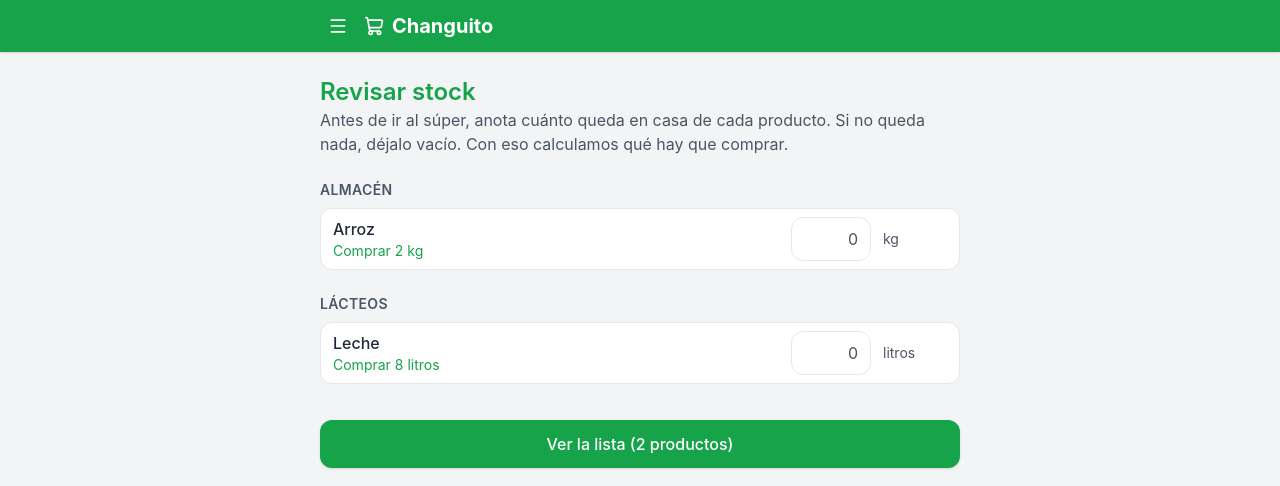
StockReviewPage › saves the review and the edited list
The width and height of the screenshot is (1280, 486).
Type "3" into the field named "¿Cuánto queda de Leche?" at (831, 353), box [791, 331, 871, 375]
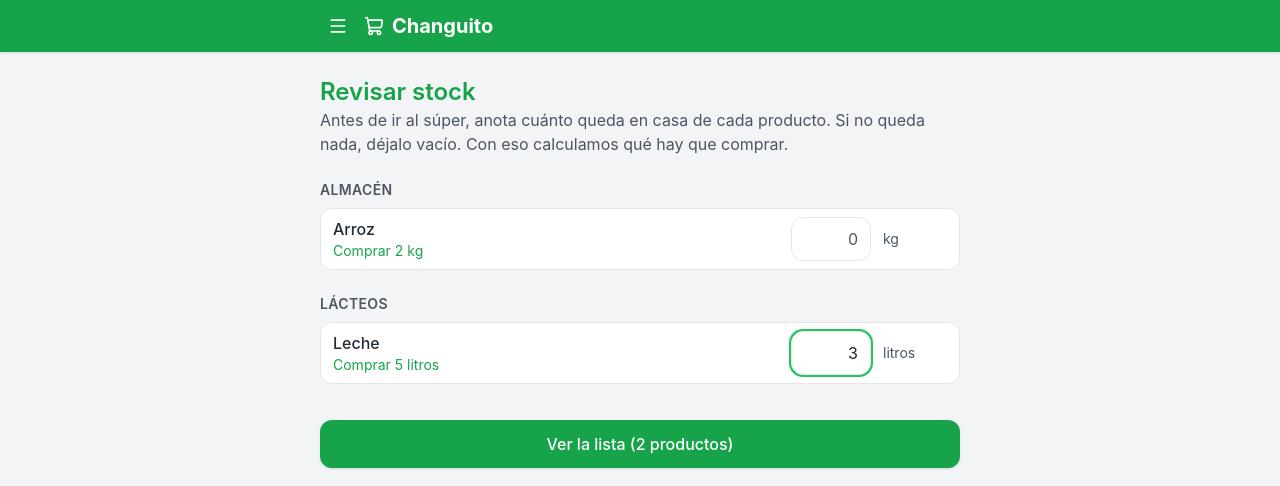
Click the button "Ver la lista (2 productos)" at (640, 444), box [320, 420, 960, 468]
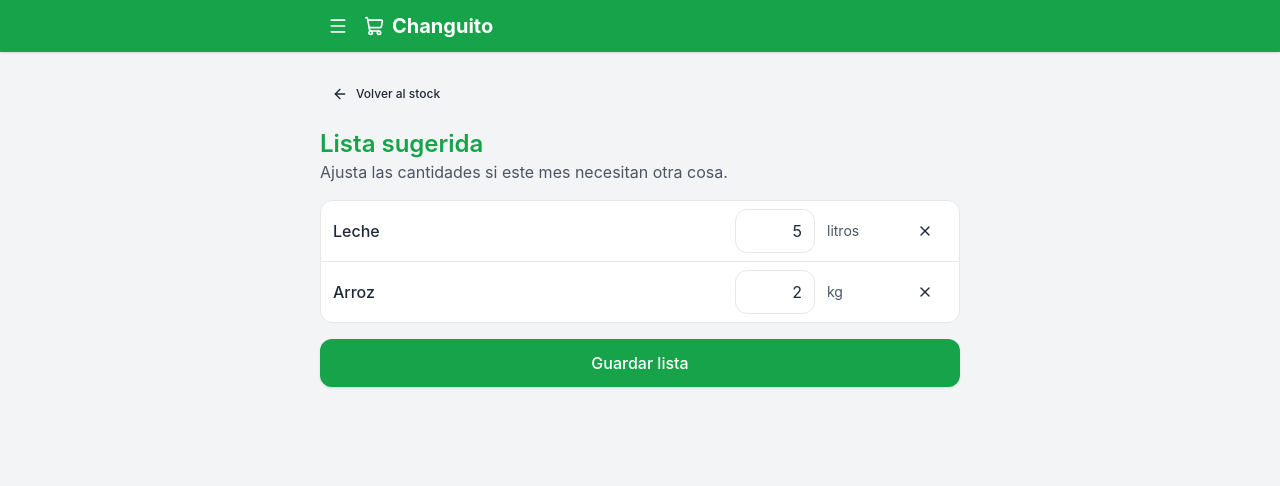
Replace the text in the field named "Cantidad de Leche" with "6" at (775, 231), box [735, 209, 815, 253]
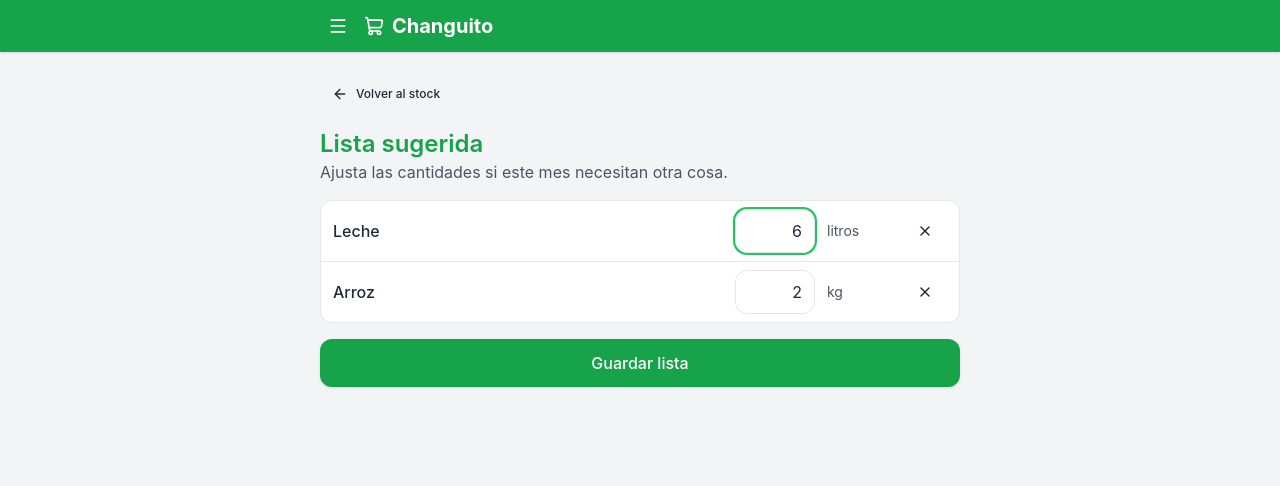
Click the button named "Quitar Arroz" at (925, 292), box [903, 270, 947, 314]
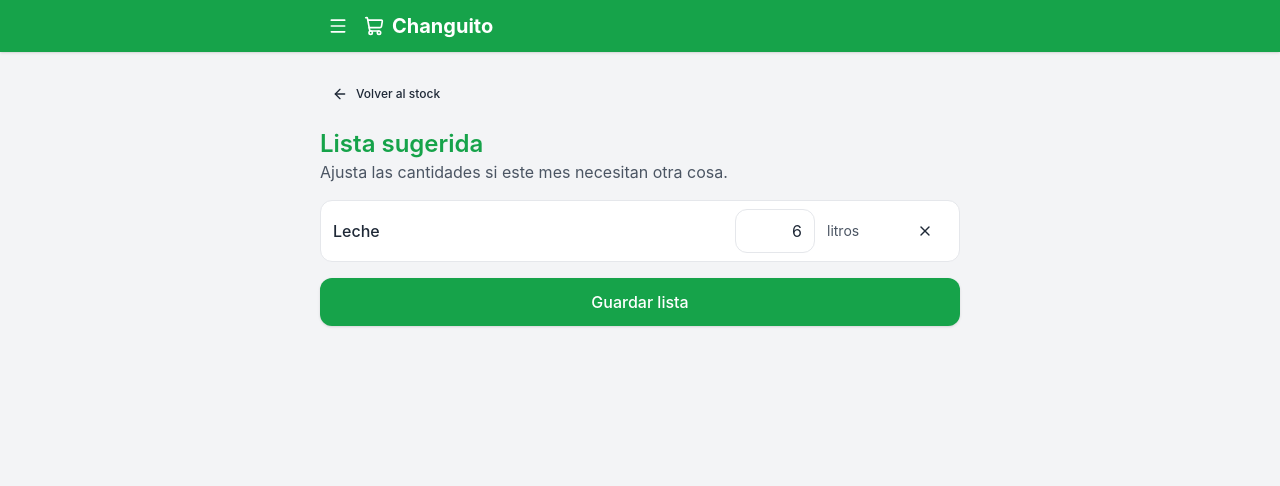
Click the button "Guardar lista" at (640, 302), box [320, 278, 960, 326]
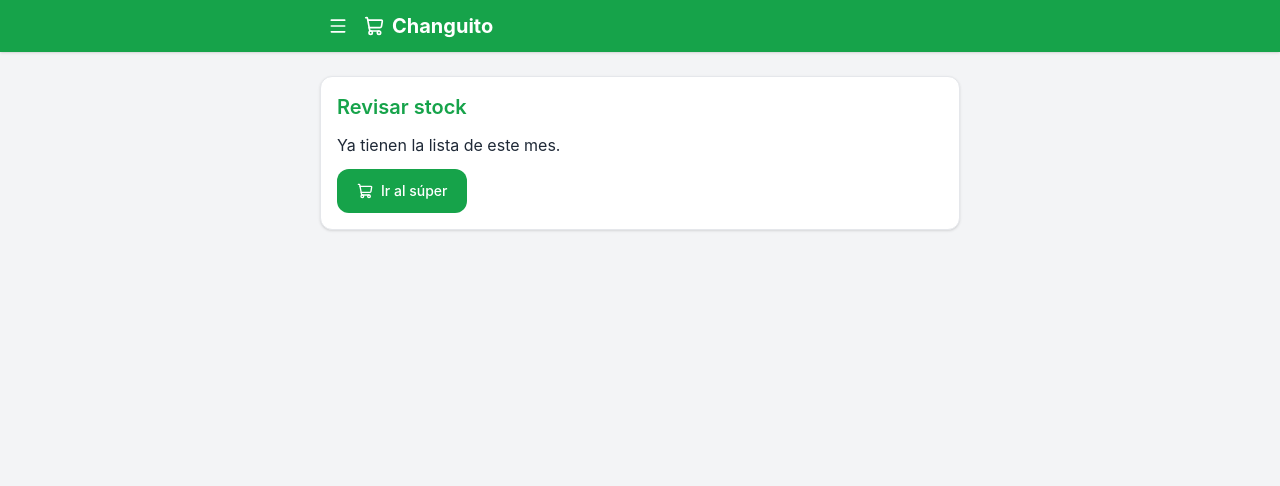
Expected: the text "Ya tienen la lista de este mes." is shown, [337, 135, 560, 155]
